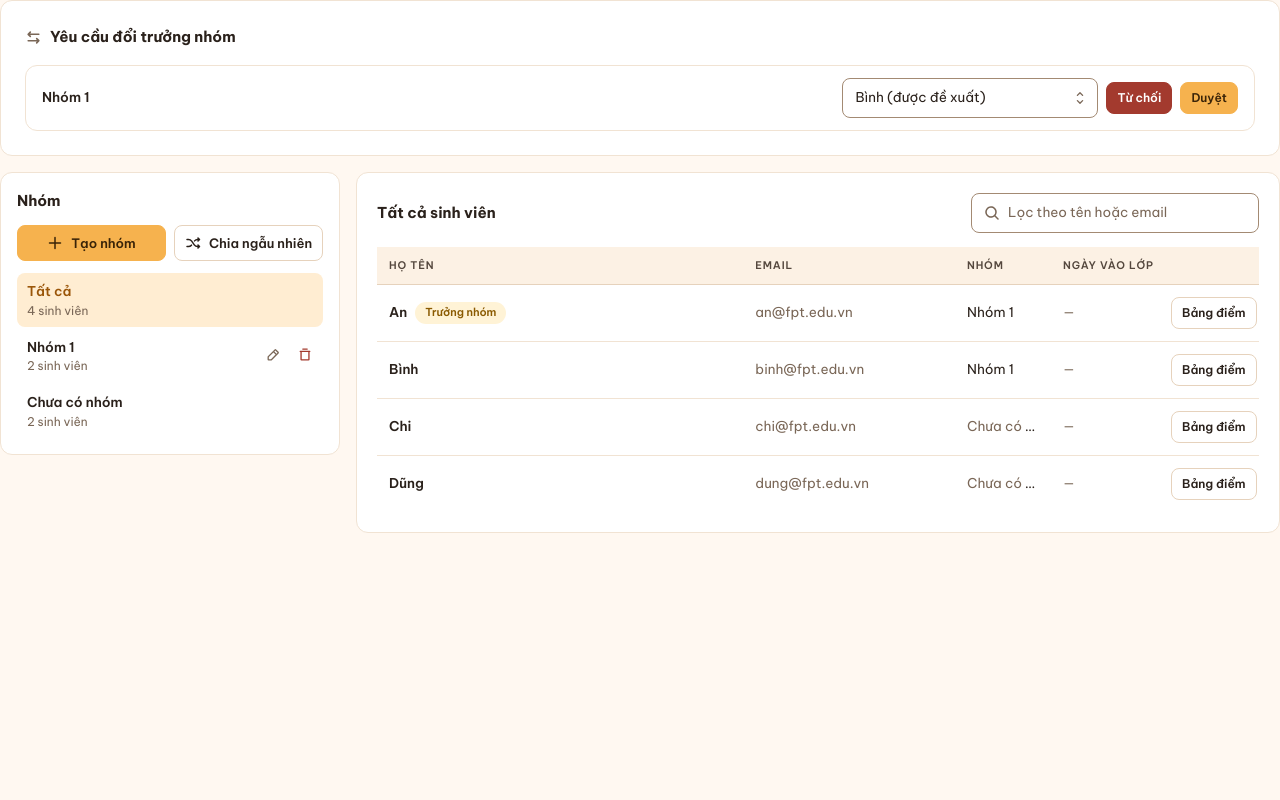
Scenario: ClassGroupsPanel › Tạo nhóm: chọn người chưa có nhóm, chọn trưởng nhóm, lưu ngay cả bộ kèm version rồi lọc sang nhóm mới
Click the button "Tạo nhóm" at (92, 243), box [17,225,166,261]
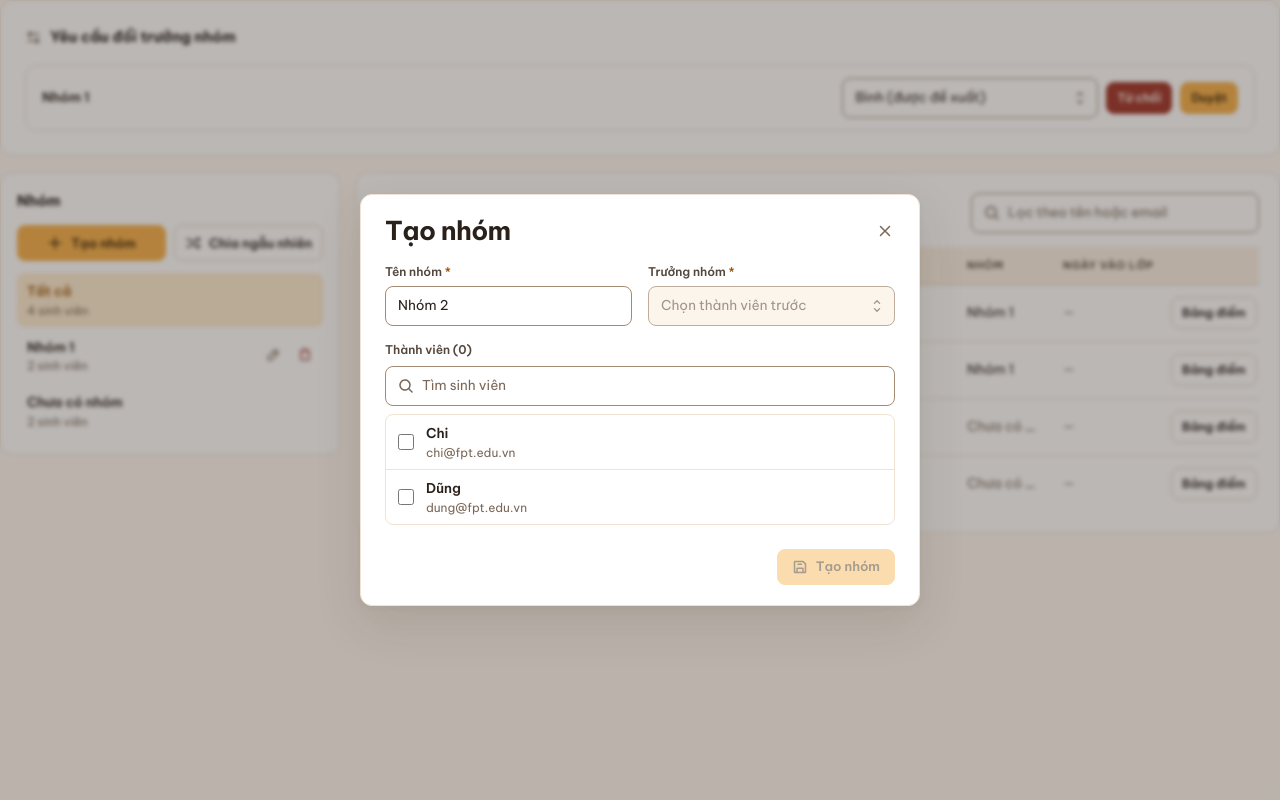
Replace the text in the field labelled "Tên nhóm *" with "Nhóm B" at (508, 306), box [398,295,619,317]
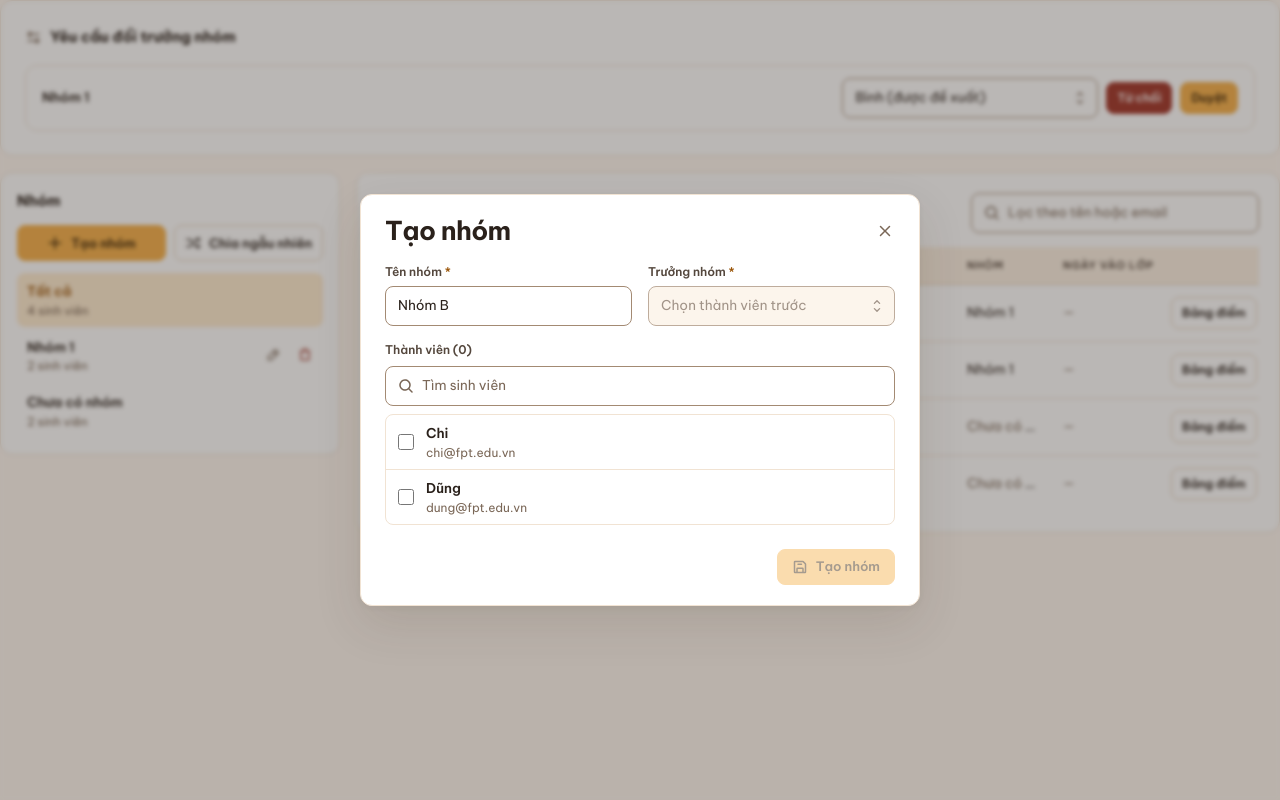
Click the checkbox named "Chọn Chi" at (406, 442), box [398,434,414,450]
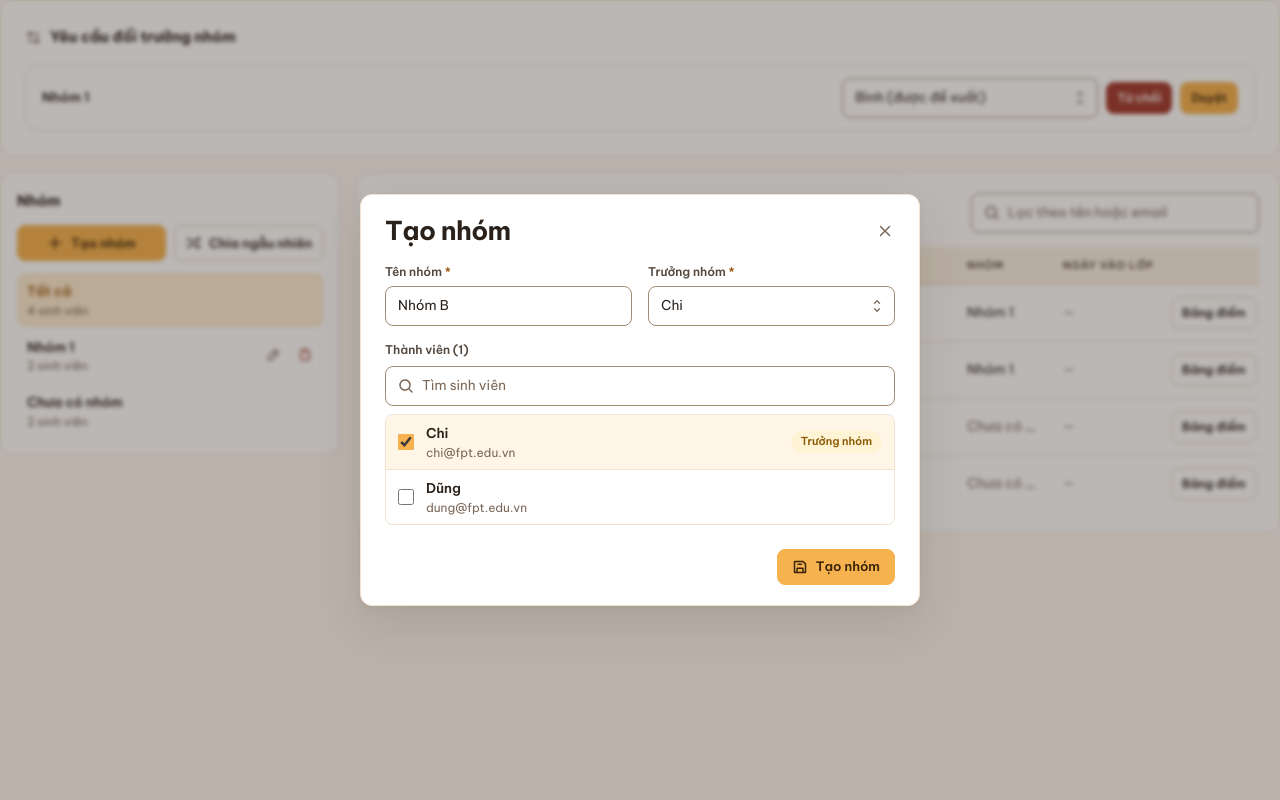
Click the checkbox named "Chọn Dũng" at (406, 497), box [398,489,414,505]
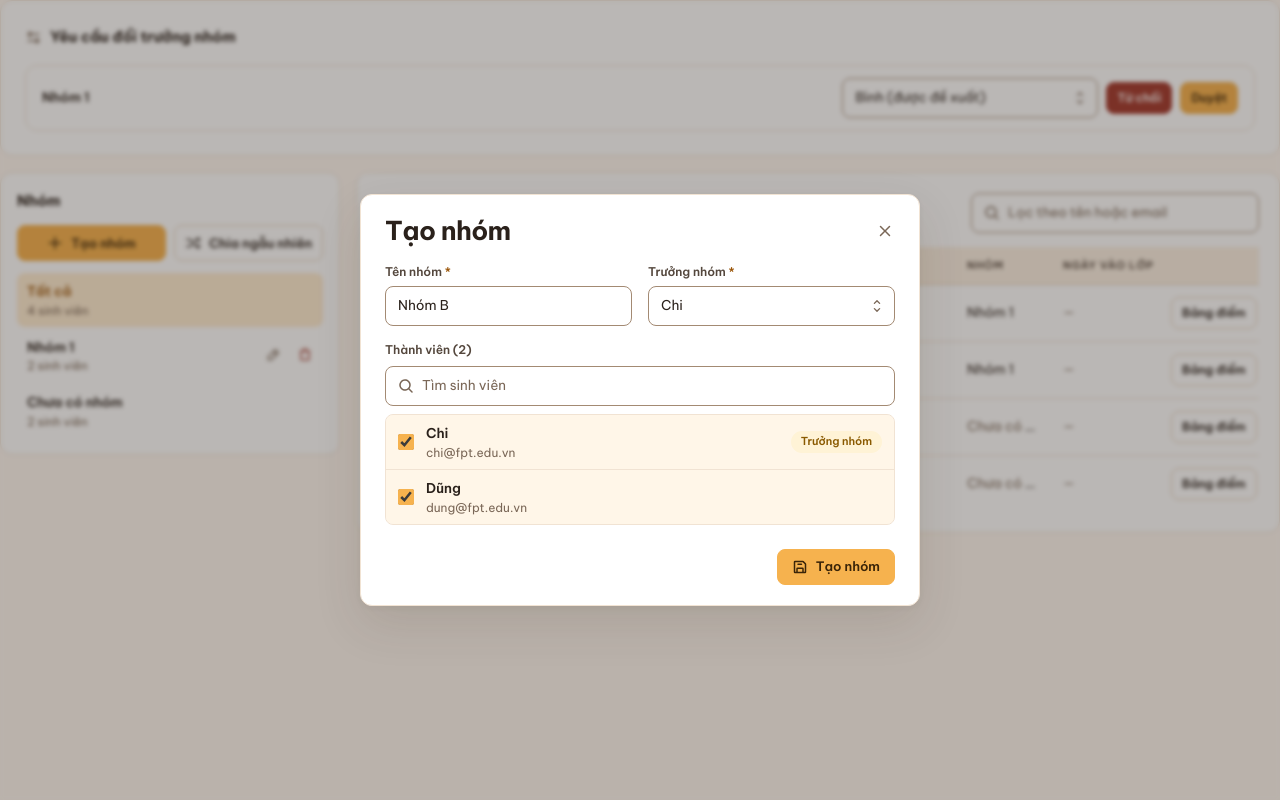
Select "Dũng" in the dropdown labelled "Trưởng nhóm *" at (774, 306), box [661,295,886,317]
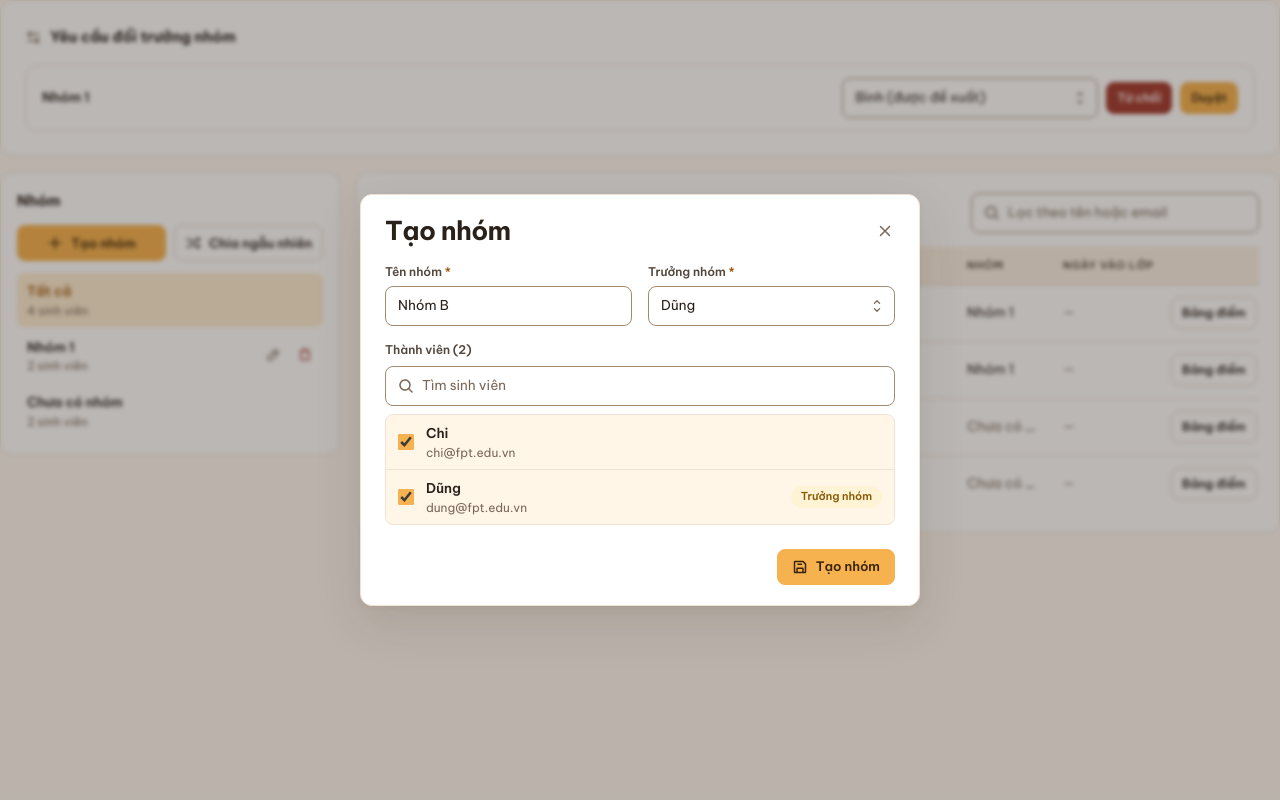
Click the button "Tạo nhóm" at (836, 567), box [777,549,895,585]
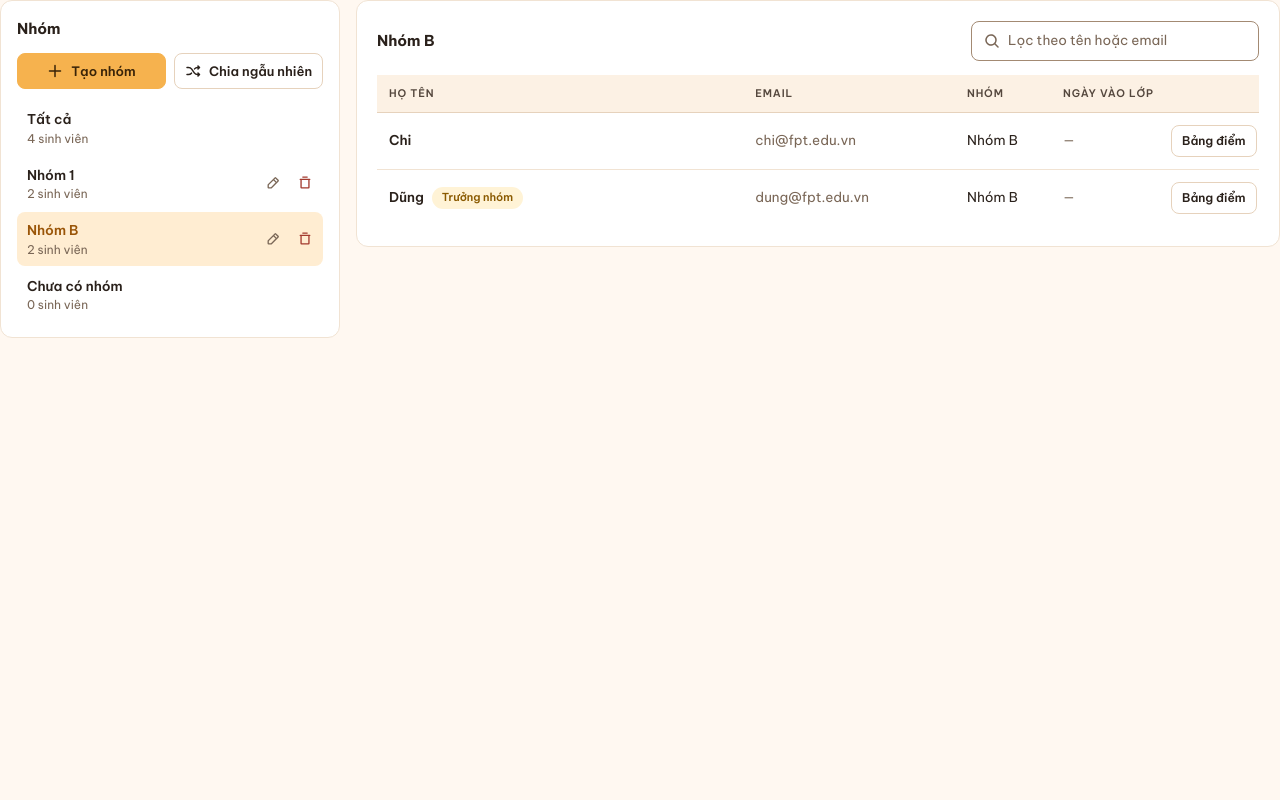
Check: the dialog is gone
Check: the heading "Nhóm B" is shown, box [377,31,435,50]
